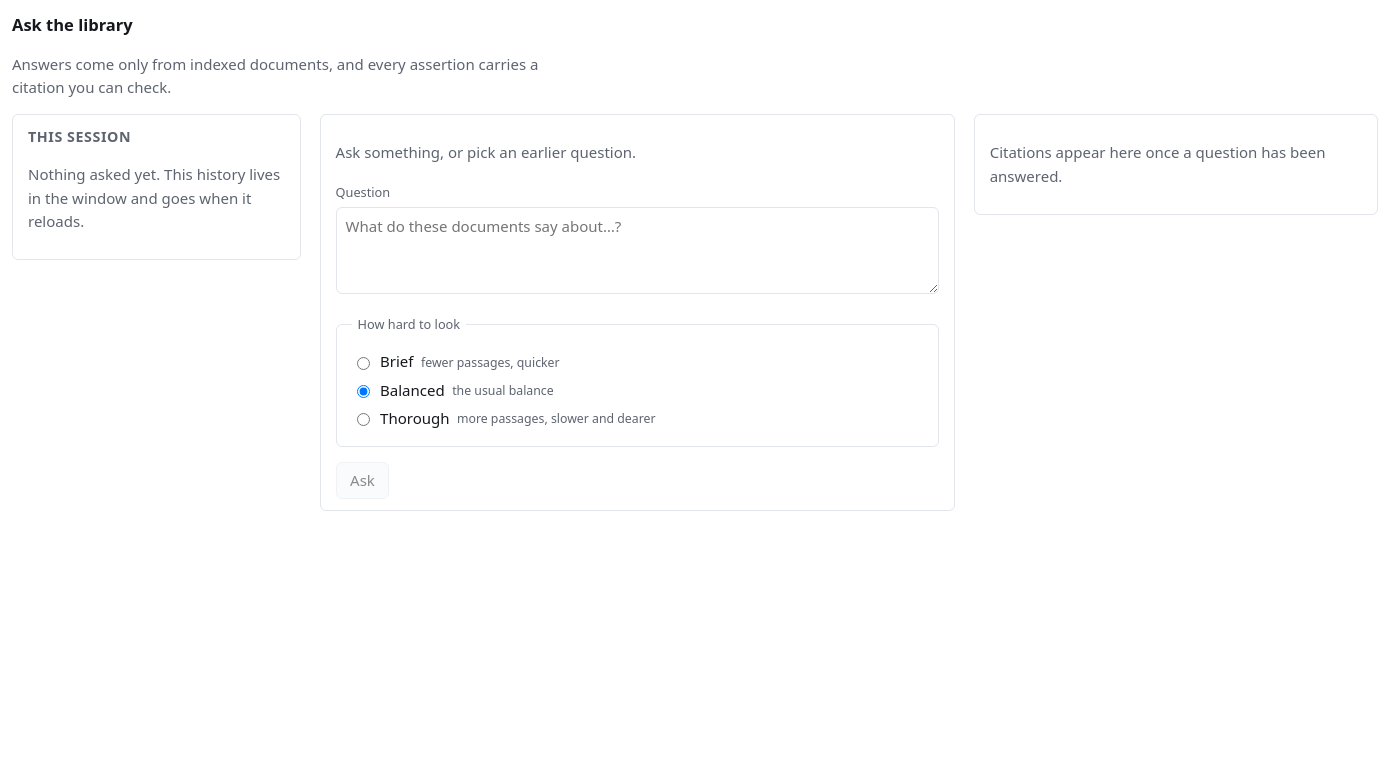
Test: session history › restores an earlier answer when its question is clicked
Type "¿la primera?" into the text box at (637, 250), box [336, 207, 939, 294]
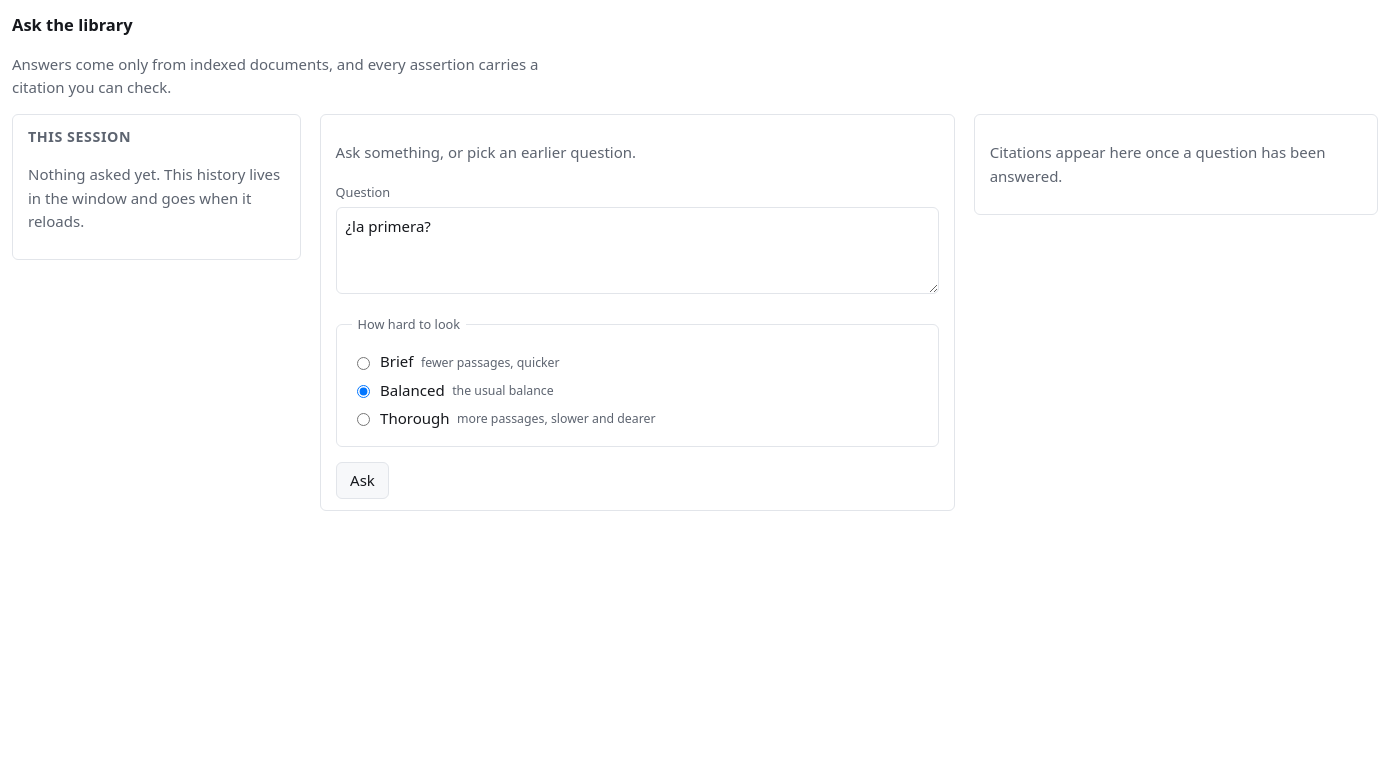
Expected: the button "Ask" is enabled
Click the button "Ask" at (362, 480), box [336, 462, 389, 499]
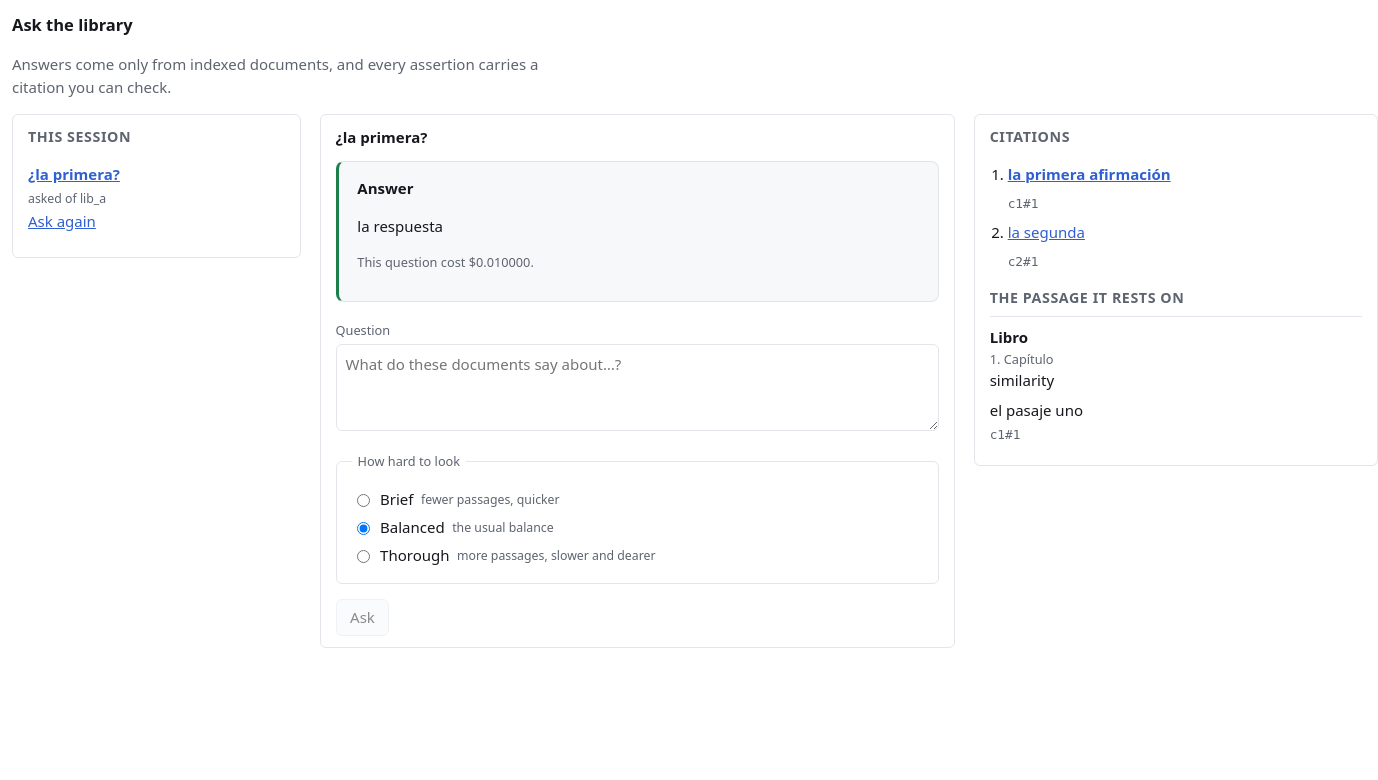
Expected: the text "la respuesta" is shown, [357, 216, 443, 236]
Type "¿la segunda?" into the text box at (637, 388), box [336, 344, 939, 431]
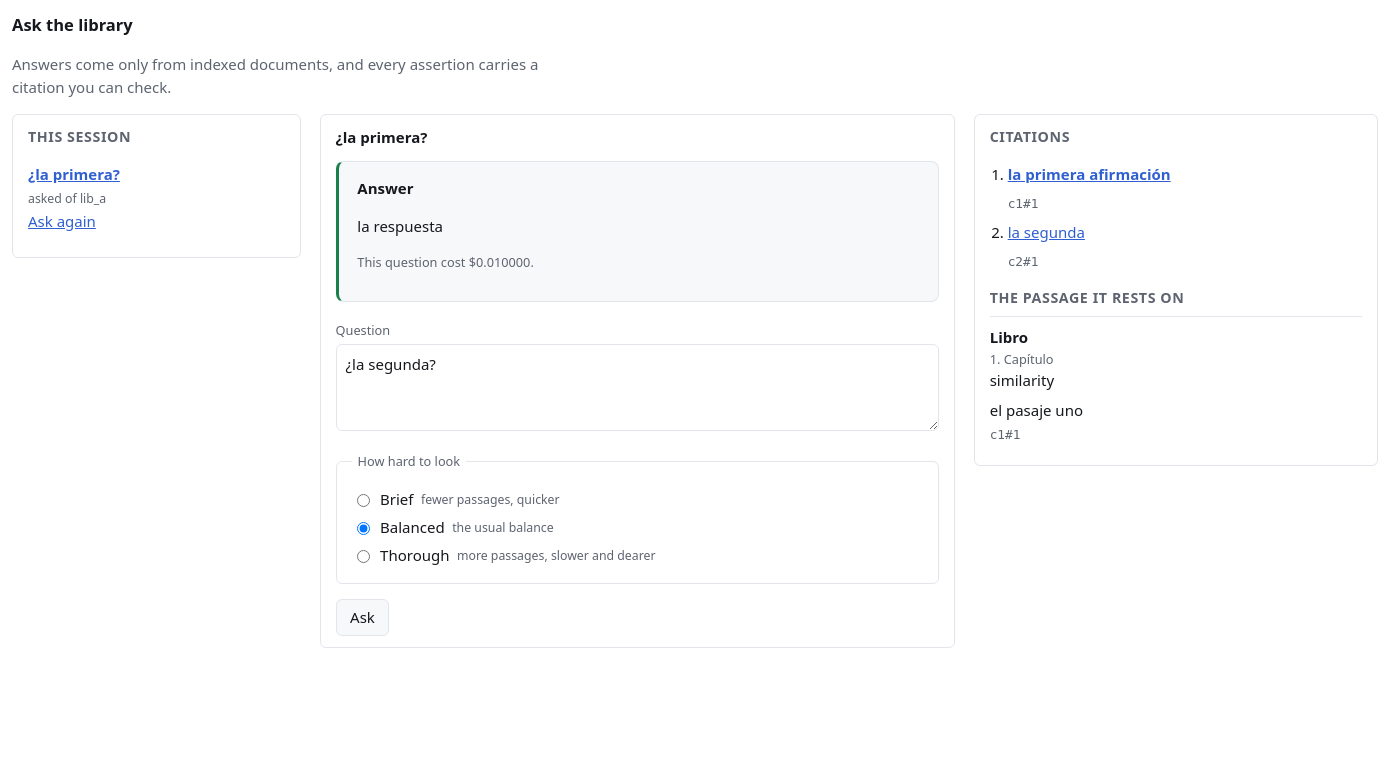
Expected: the button "Ask" is enabled
Click the button "Ask" at (362, 618), box [336, 599, 389, 636]
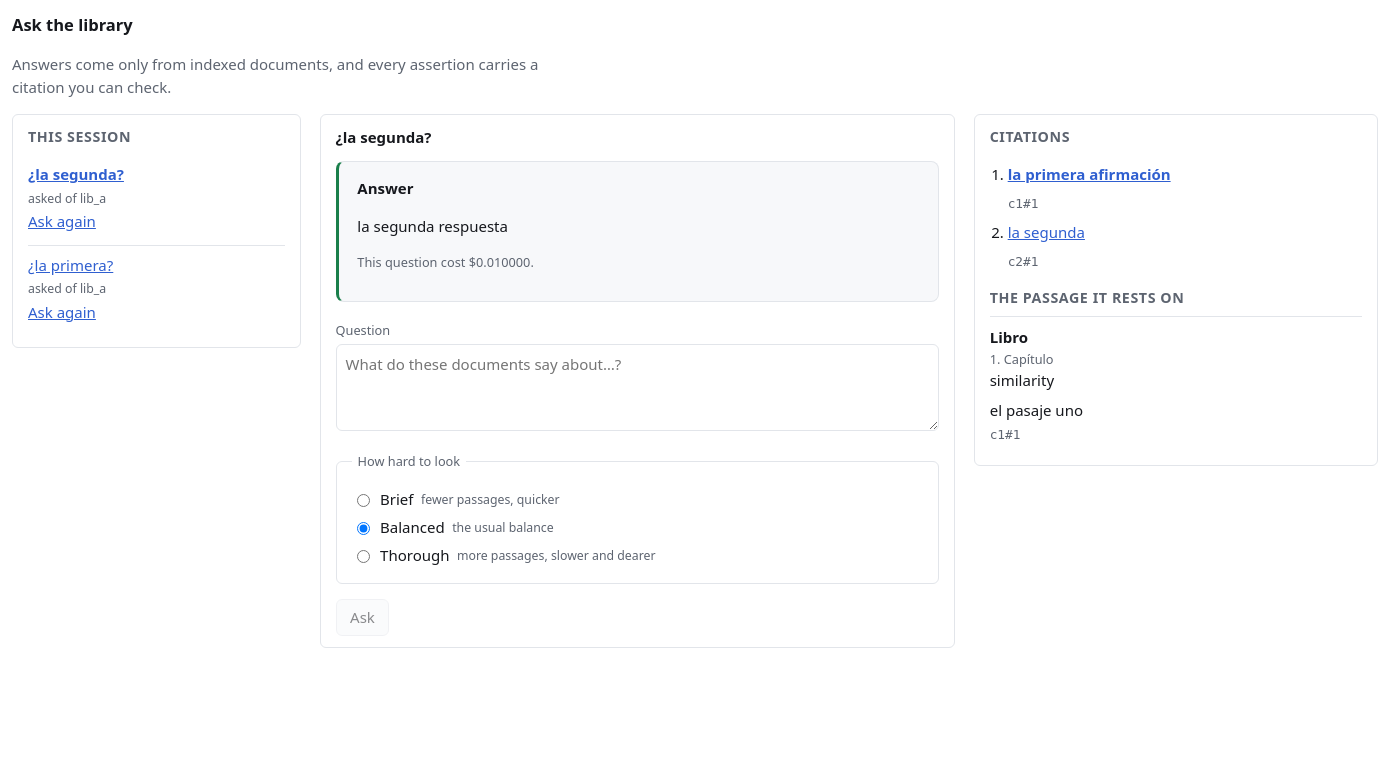
Expected: the text "la segunda respuesta" is shown, [357, 216, 508, 236]
Click the button "¿la primera?" at (71, 266), box [28, 254, 113, 277]
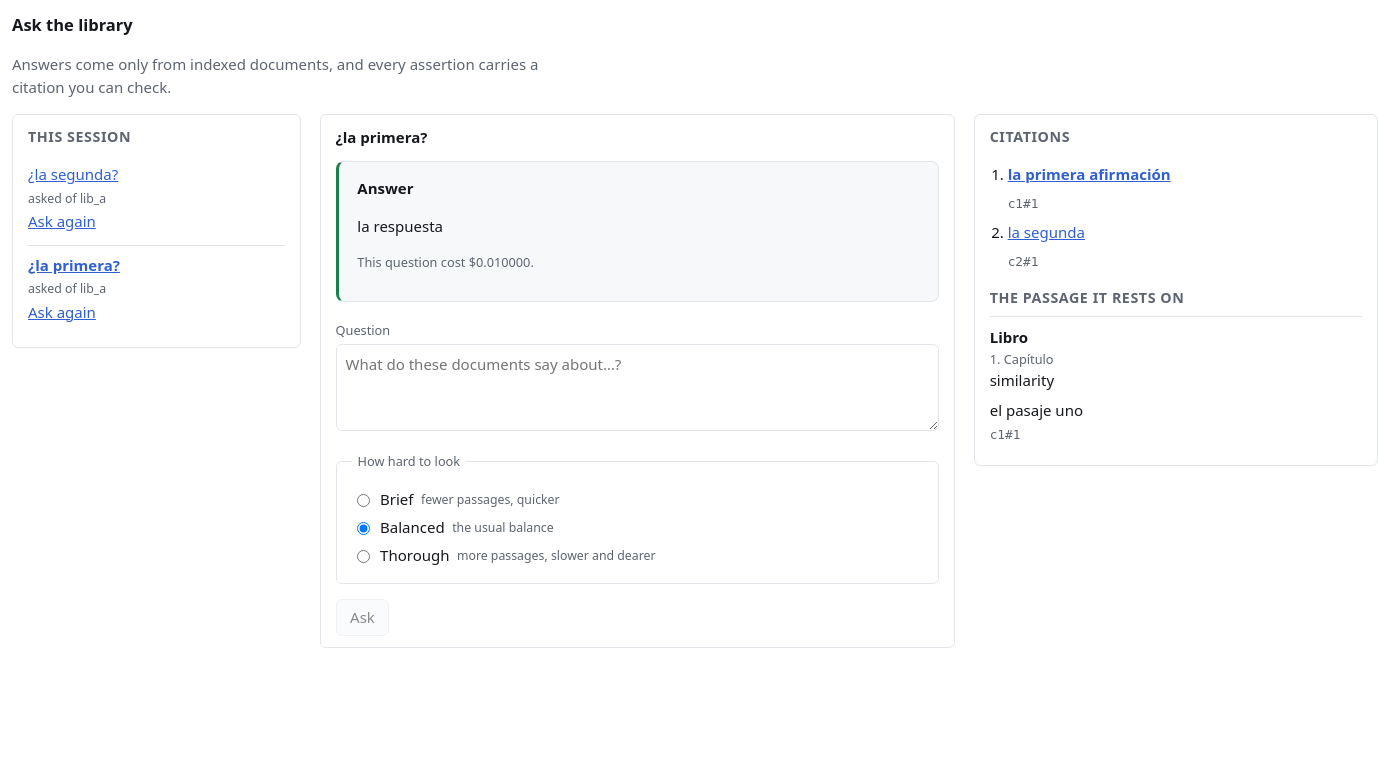
Expected: the text "la respuesta" is shown, [357, 216, 443, 236]
Expected: the text "la segunda respuesta" is gone
